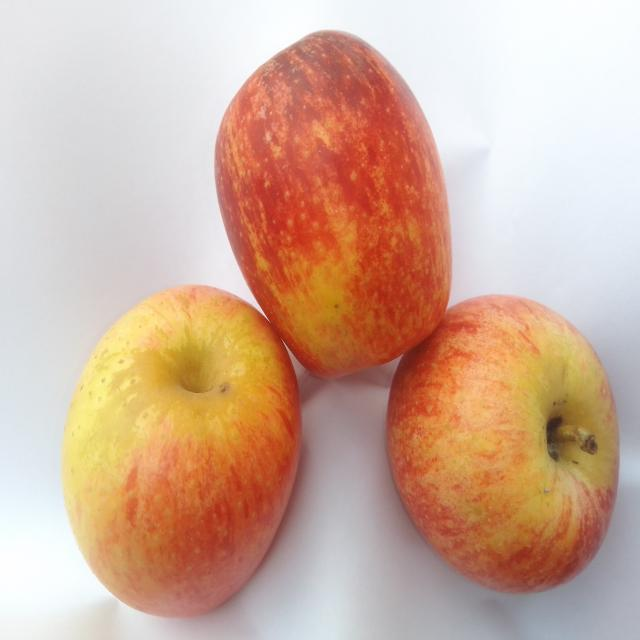Fresh Apple: (202, 37, 455, 375), (80, 284, 295, 614), (396, 290, 612, 577)
